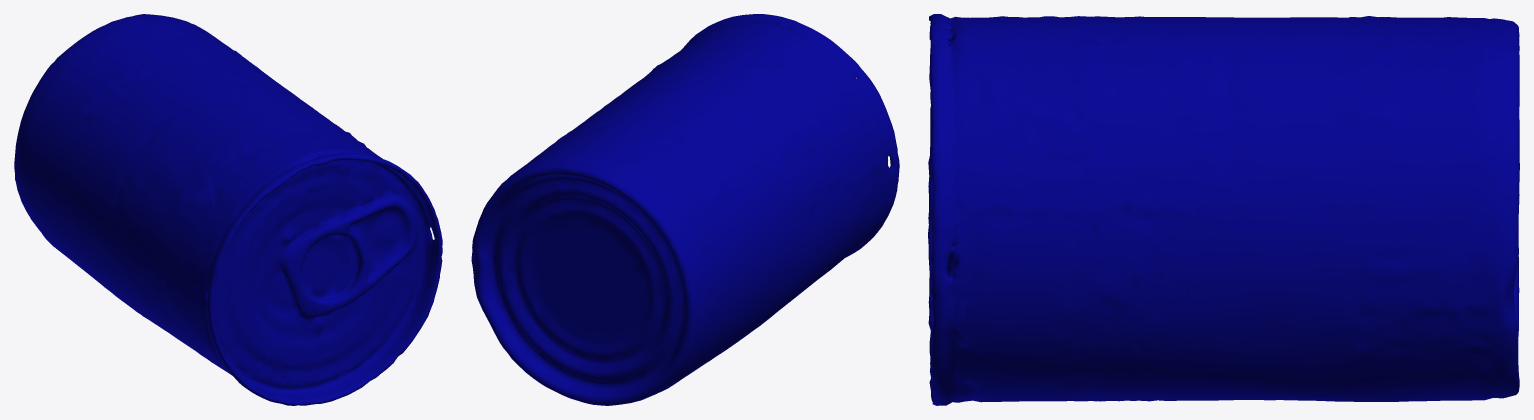
The picture shows the model from 3 angles, left to right: view 1: azimuth 30°, elevation 25°; view 2: azimuth 150°, elevation 25°; view 3: azimuth 270°, elevation 25°; orthographic projection. The views are drawn at different scales.
Size of the model in its own units: 0.0679 by 0.0677 by 0.1019.
